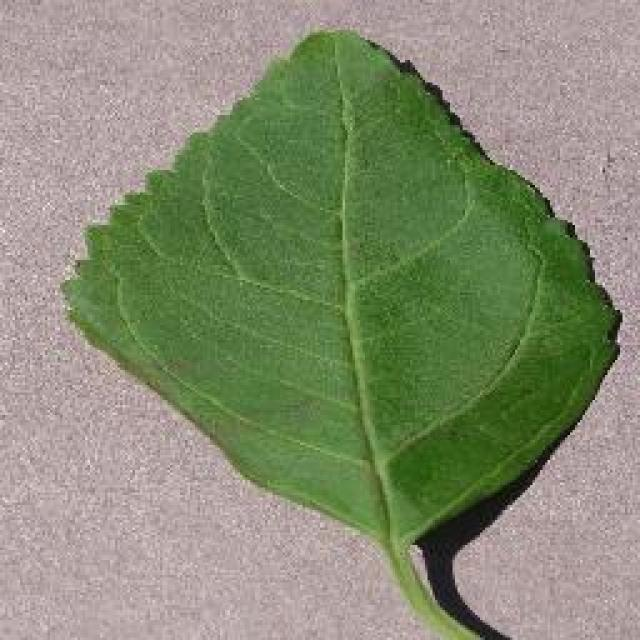Cherry___healthy: (48, 10, 630, 638)
